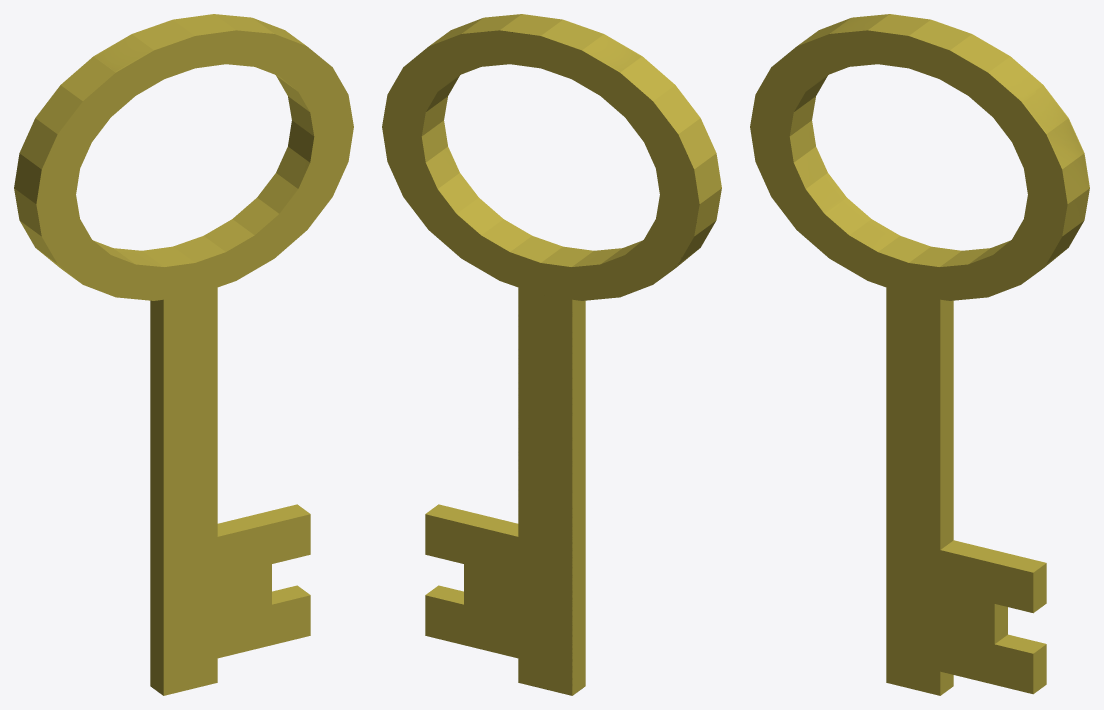
3 renders of one model, left to right at view 1: azimuth 30°, elevation 25°; view 2: azimuth 150°, elevation 25°; view 3: azimuth 330°, elevation 25°, orthographic.
Visible parts, largest first — view 1: obj_0; view 2: obj_0; view 3: obj_0.
Part boxes in pixels (x1,y1,x2,y2): obj_0: [14, 14, 353, 695]; obj_0: [382, 14, 721, 695]; obj_0: [750, 14, 1089, 695].
Size of the model in its own units: 6300 by 12446 by 768.
1 material, 1 textured.
